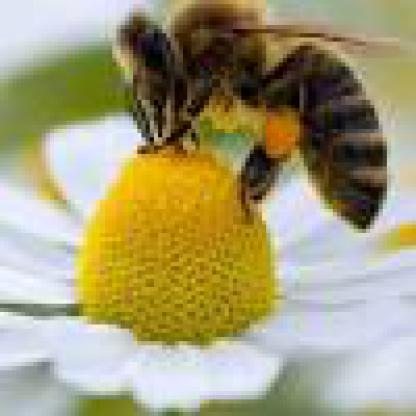other: (104, 8, 404, 258)
